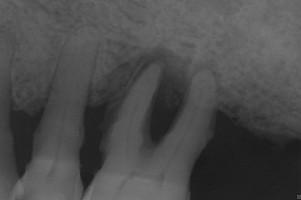Dental Caries: (97, 48, 195, 143)
